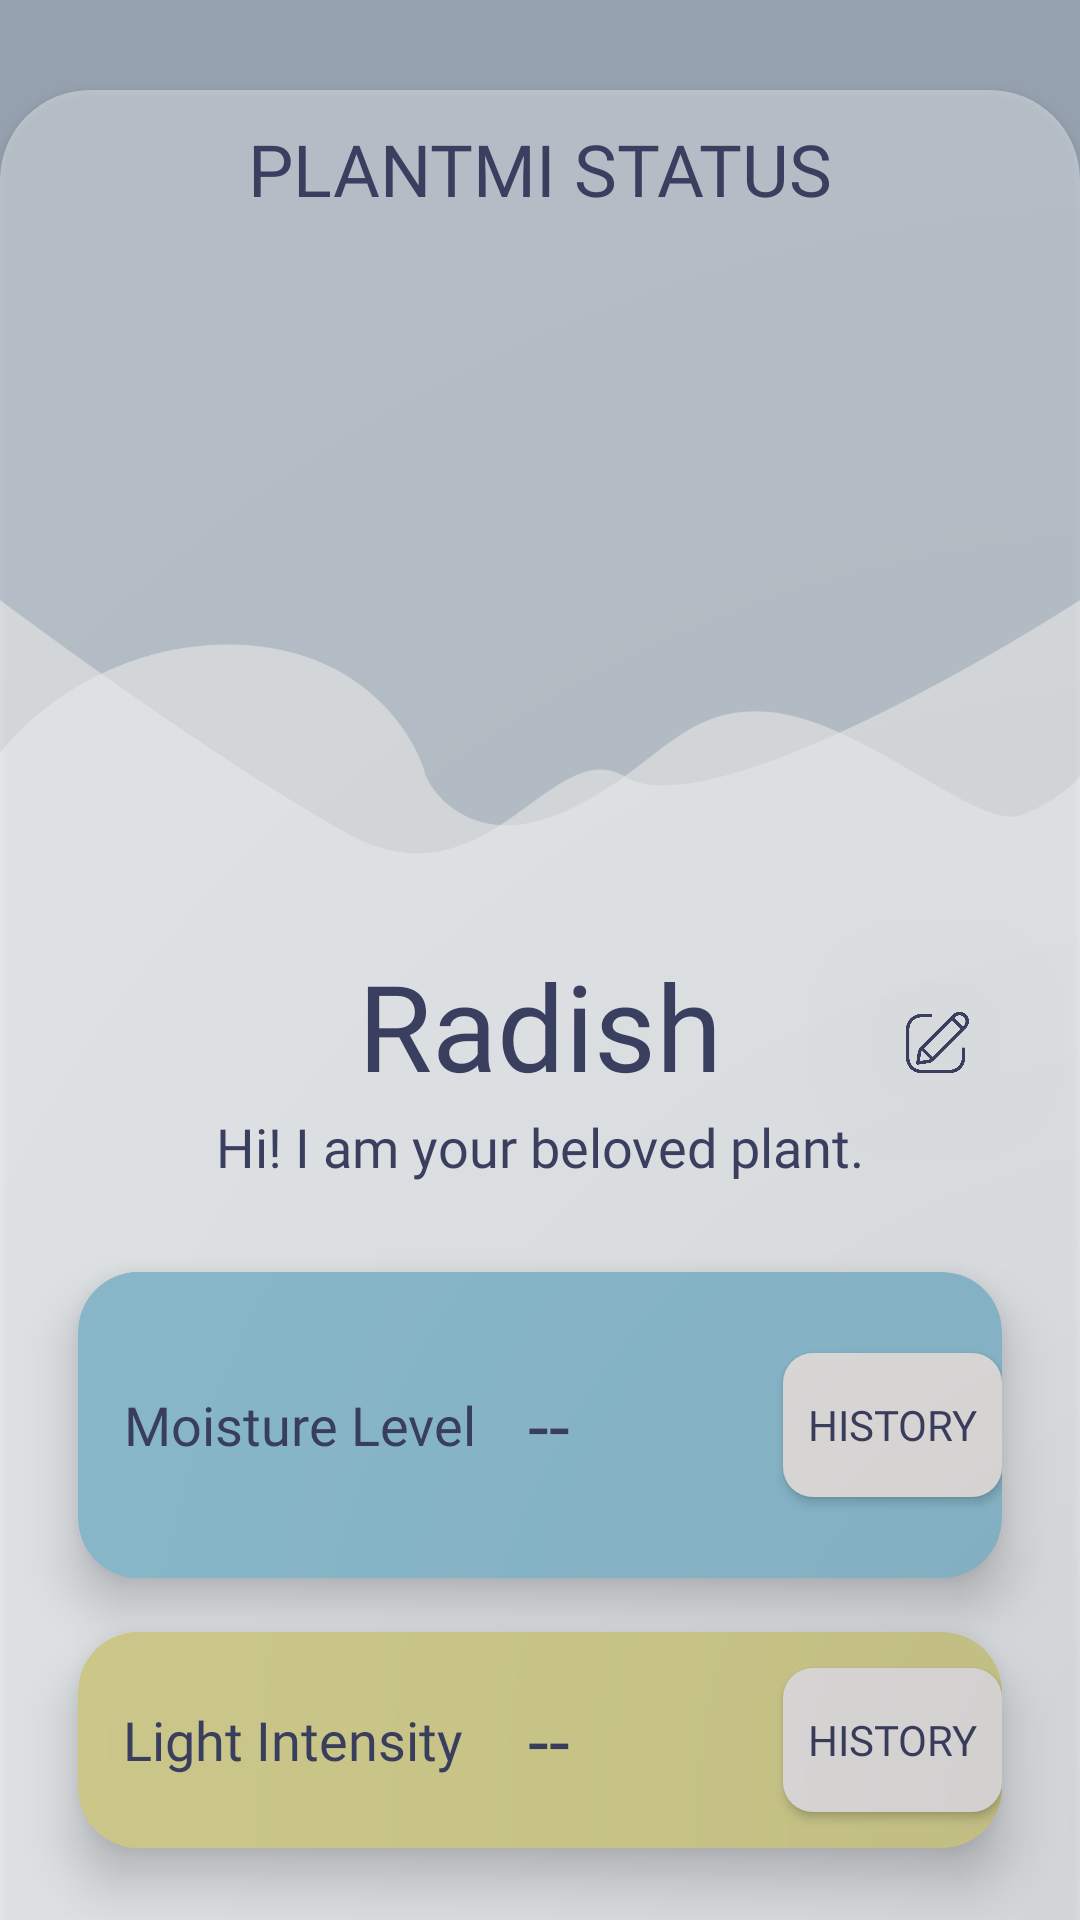

Icons on this 1080px x 1920px Android screen, each with its box as (x1, y1, x2, y2):
edit: (906, 1012, 969, 1073)
